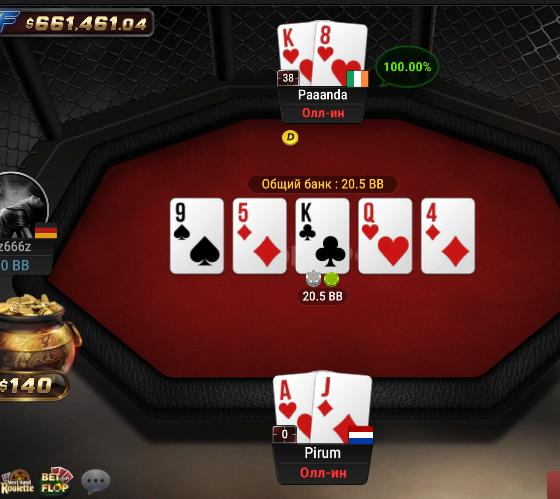4d: (422, 198, 474, 273)
5d: (233, 199, 285, 273)
8h: (314, 21, 366, 84)
9s: (170, 198, 223, 275)
Ah: (271, 374, 314, 443)
Jd: (314, 372, 372, 442)
Kc: (295, 199, 349, 273)
Kh: (277, 24, 314, 86)
Qh: (359, 199, 413, 273)
